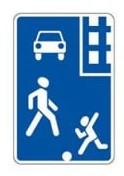road_sign: (11, 12, 118, 166)
